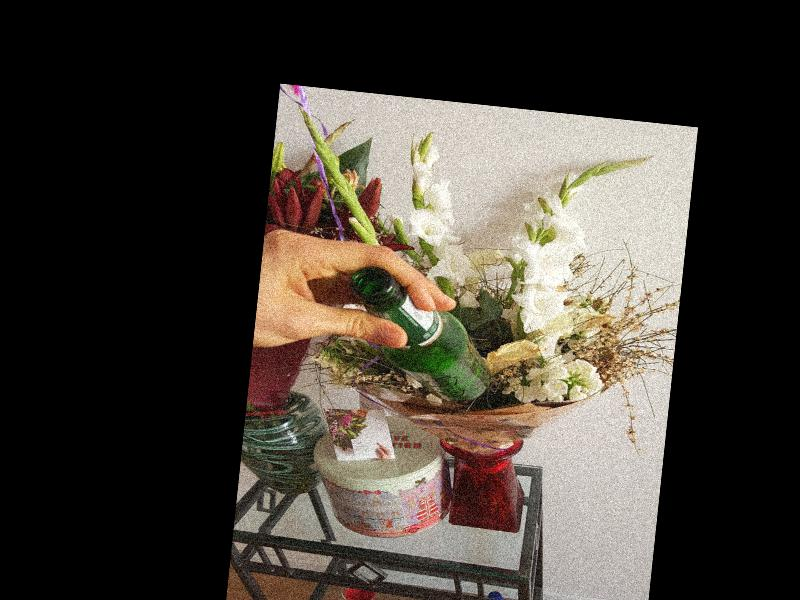Beer: (341, 264, 499, 404)
